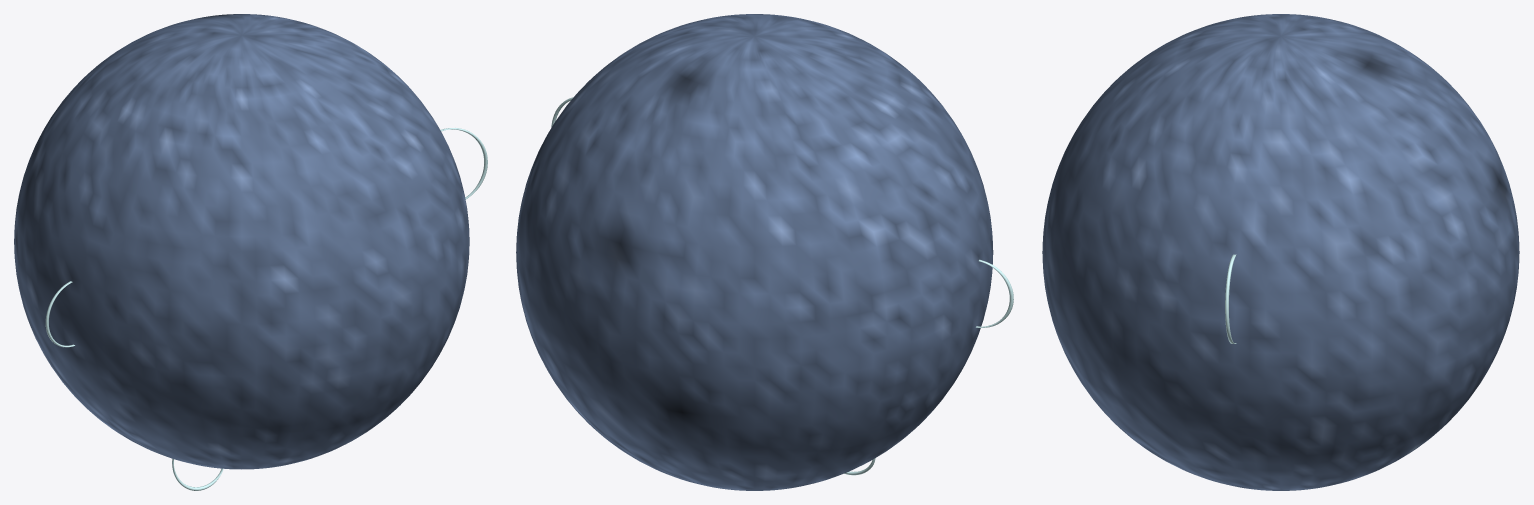
Rendered from Star_16.fbx.
3 renders of one model, left to right at view 1: azimuth 30°, elevation 25°; view 2: azimuth 150°, elevation 25°; view 3: azimuth 270°, elevation 25°, orthographic. The views are drawn at different scales.
Visible parts, largest first — view 1: Star_16; view 2: Star_16; view 3: Star_16.
Boxes of the visible parts, x1=… form: Star_16: x1=14, y1=14, x2=487, y2=490; Star_16: x1=516, y1=14, x2=1013, y2=490; Star_16: x1=1042, y1=14, x2=1519, y2=490.
Size of the model in its own units: 224 by 204 by 200.
